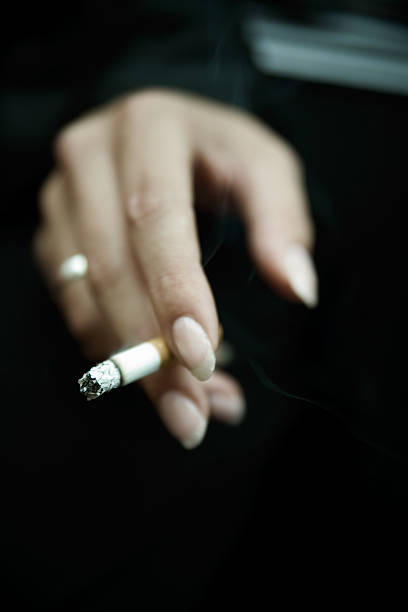cigarette: (75, 337, 173, 402)
